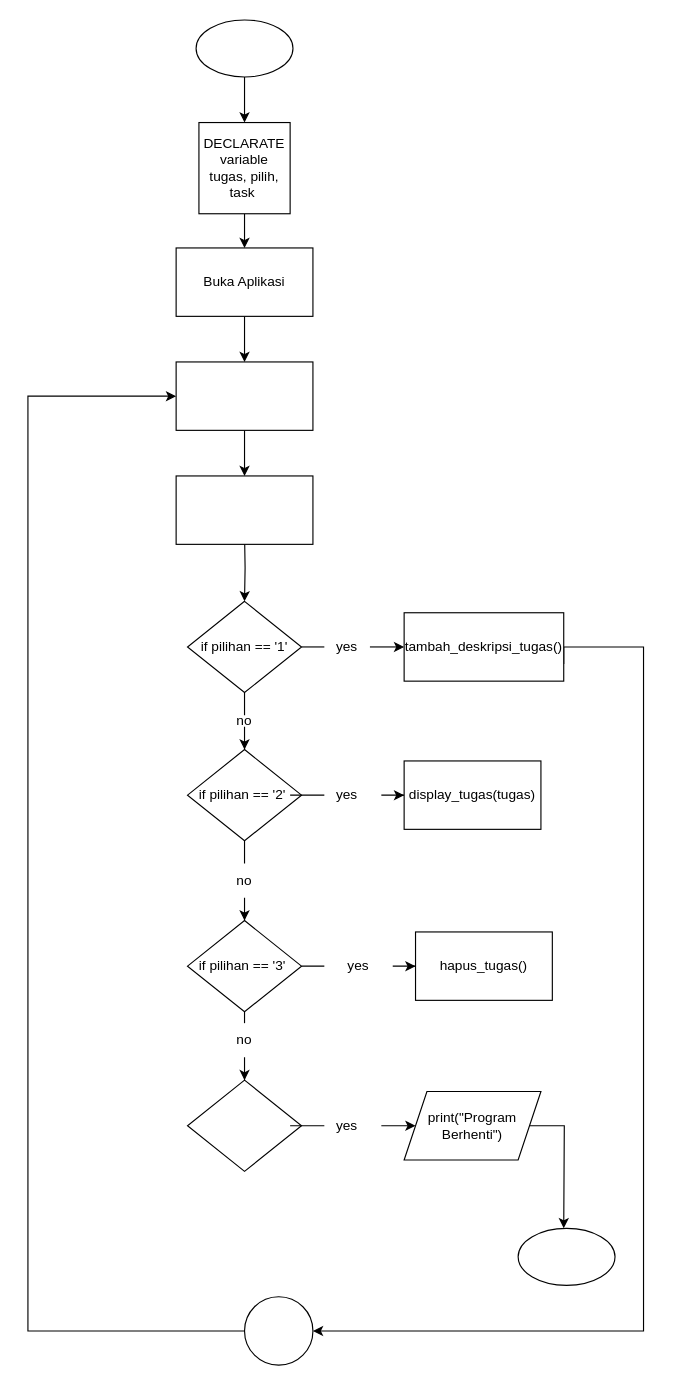
Some shapes in this 673 by 1385 pixel diagram are drawn without their labels. Here are the shapes that lost their labels. From the top down, the centre of each, then its label:
(244,48): Start
(244,395): tampilan_menu()
(244,509): Masukkan Pilihan
(244,1125): if pilihan == '4'
(566,1256): End
